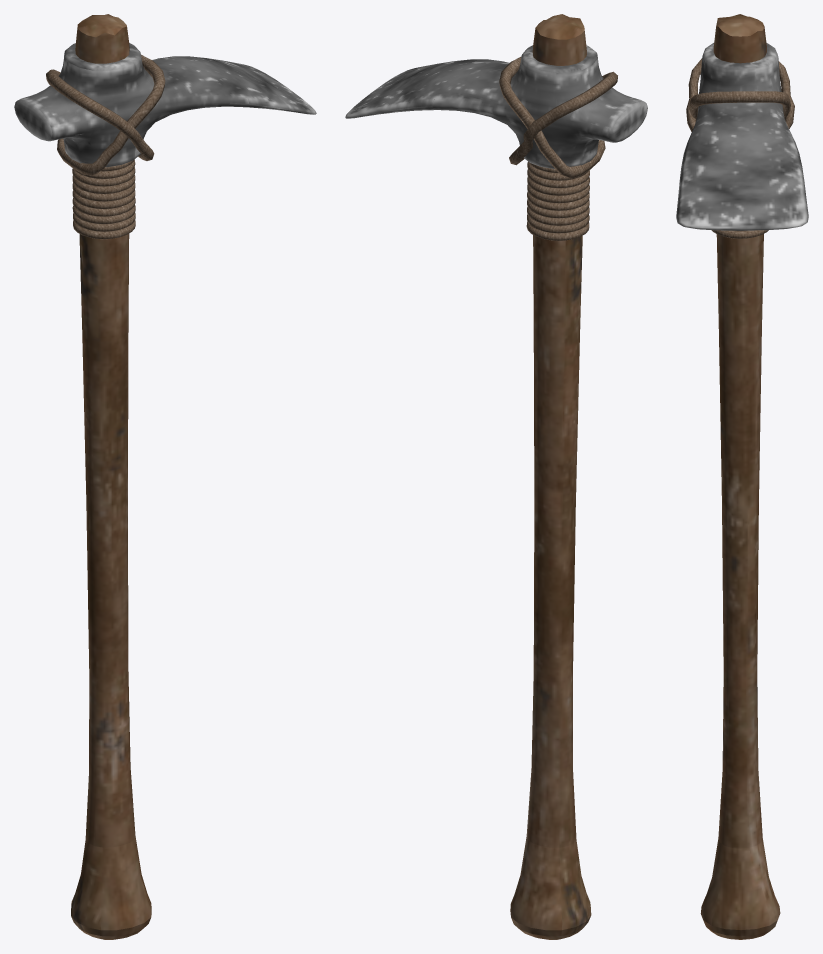
The model's file is Machado_Lenhador.glb.
The picture shows the model from 3 angles, left to right: view 1: azimuth 30°, elevation 25°; view 2: azimuth 150°, elevation 25°; view 3: azimuth 270°, elevation 25°; orthographic projection.
Parts seen in each view (by area): view 1: Cube.005_ToolsWoodHandle_0; view 2: Cube.005_ToolsWoodHandle_0; view 3: Cube.005_ToolsWoodHandle_0.
Boxes of the visible parts, box(x1,y1,x2,y2) form: Cube.005_ToolsWoodHandle_0: box(14, 14, 316, 939); Cube.005_ToolsWoodHandle_0: box(345, 14, 647, 939); Cube.005_ToolsWoodHandle_0: box(676, 14, 808, 939).
Size of the model in its own units: 0.2982 by 1 by 0.1322.
3 materials, 3 textured.
